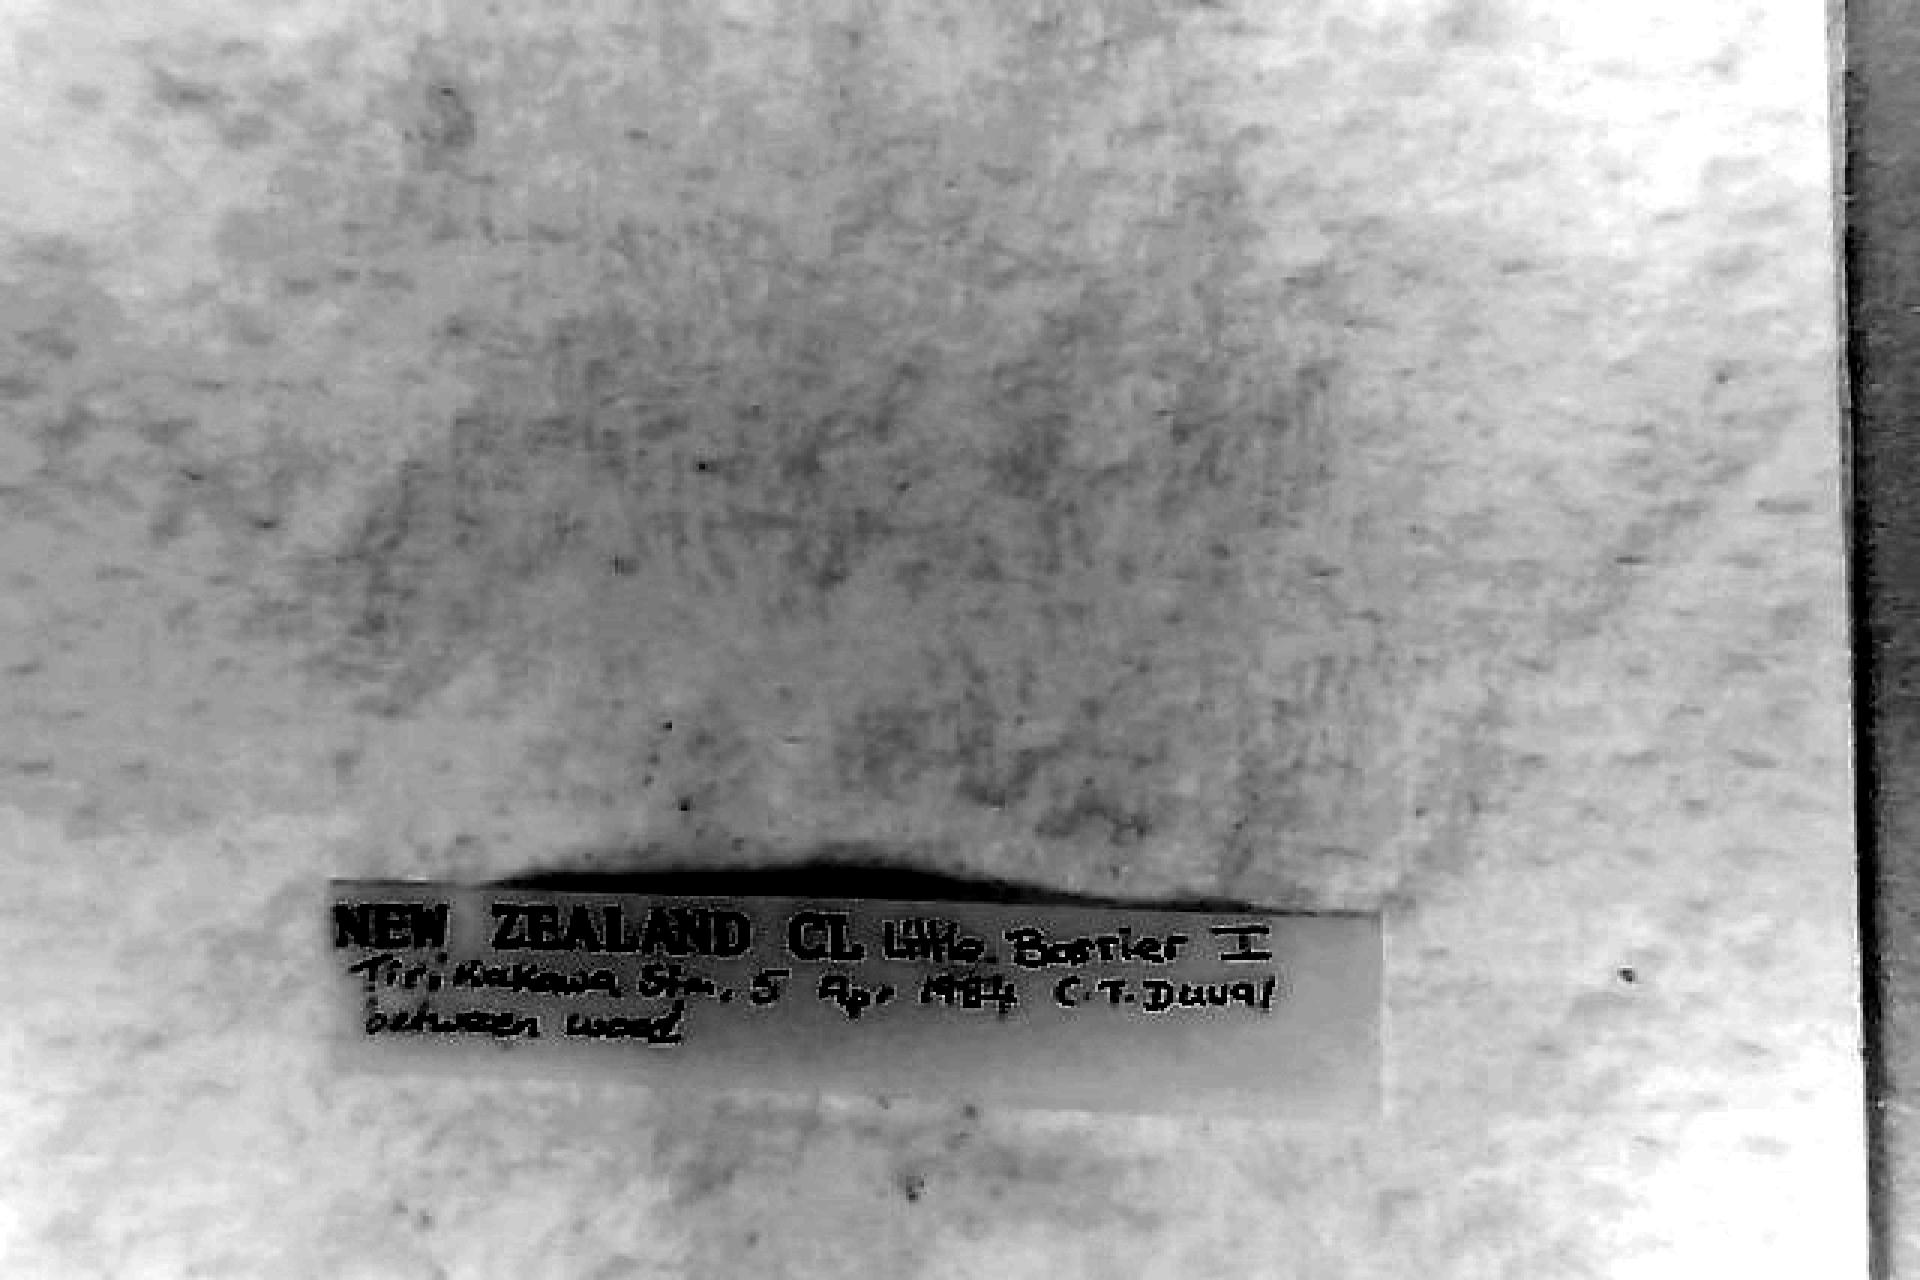mixed_label: (330, 885, 1374, 1108)
